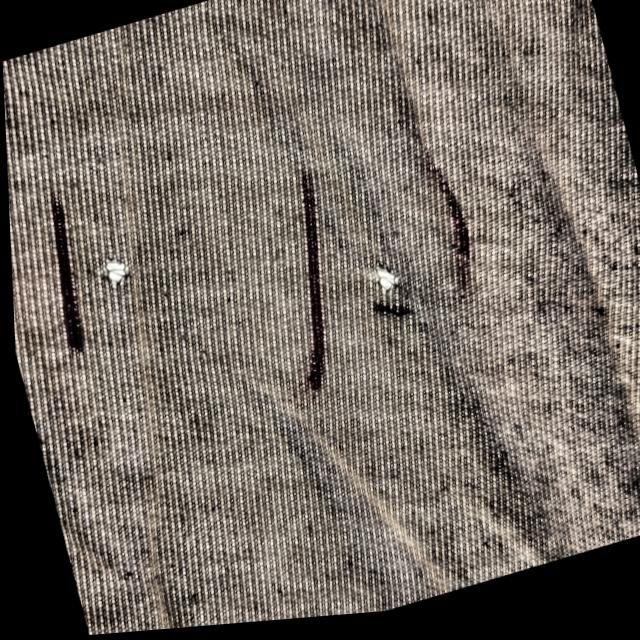Hole: (363, 262, 404, 311), (94, 253, 135, 293)
Stitch: (363, 287, 417, 344)
